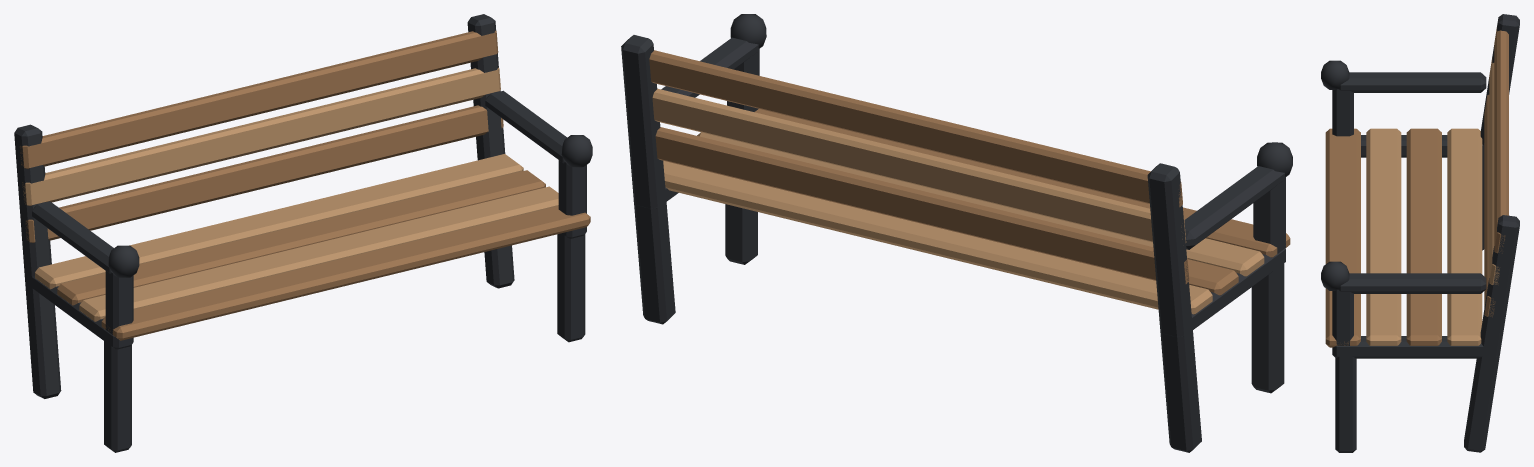
The model's file is plaza_bench.glb.
3 renders of one model, left to right at view 1: azimuth 30°, elevation 25°; view 2: azimuth 150°, elevation 25°; view 3: azimuth 270°, elevation 25°, orthographic. The views are drawn at different scales.
Visible parts, largest first — view 1: LOD0; view 2: LOD0; view 3: LOD0.
Part boxes in pixels (x1=…): LOD0: x1=14, y1=14, x2=592, y2=452; LOD0: x1=621, y1=14, x2=1292, y2=452; LOD0: x1=1321, y1=14, x2=1519, y2=452.
Bounding box in the file's own units: 1.88 × 0.9489 × 0.7356.
1 material, 1 textured.
